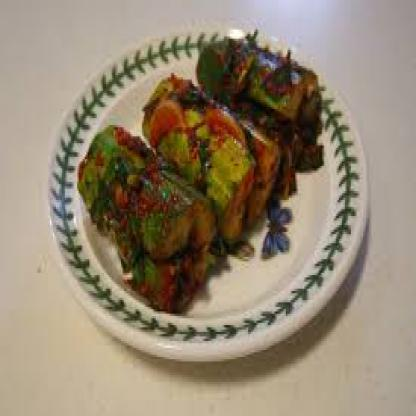cucumber kimchi: (86, 46, 316, 296)
